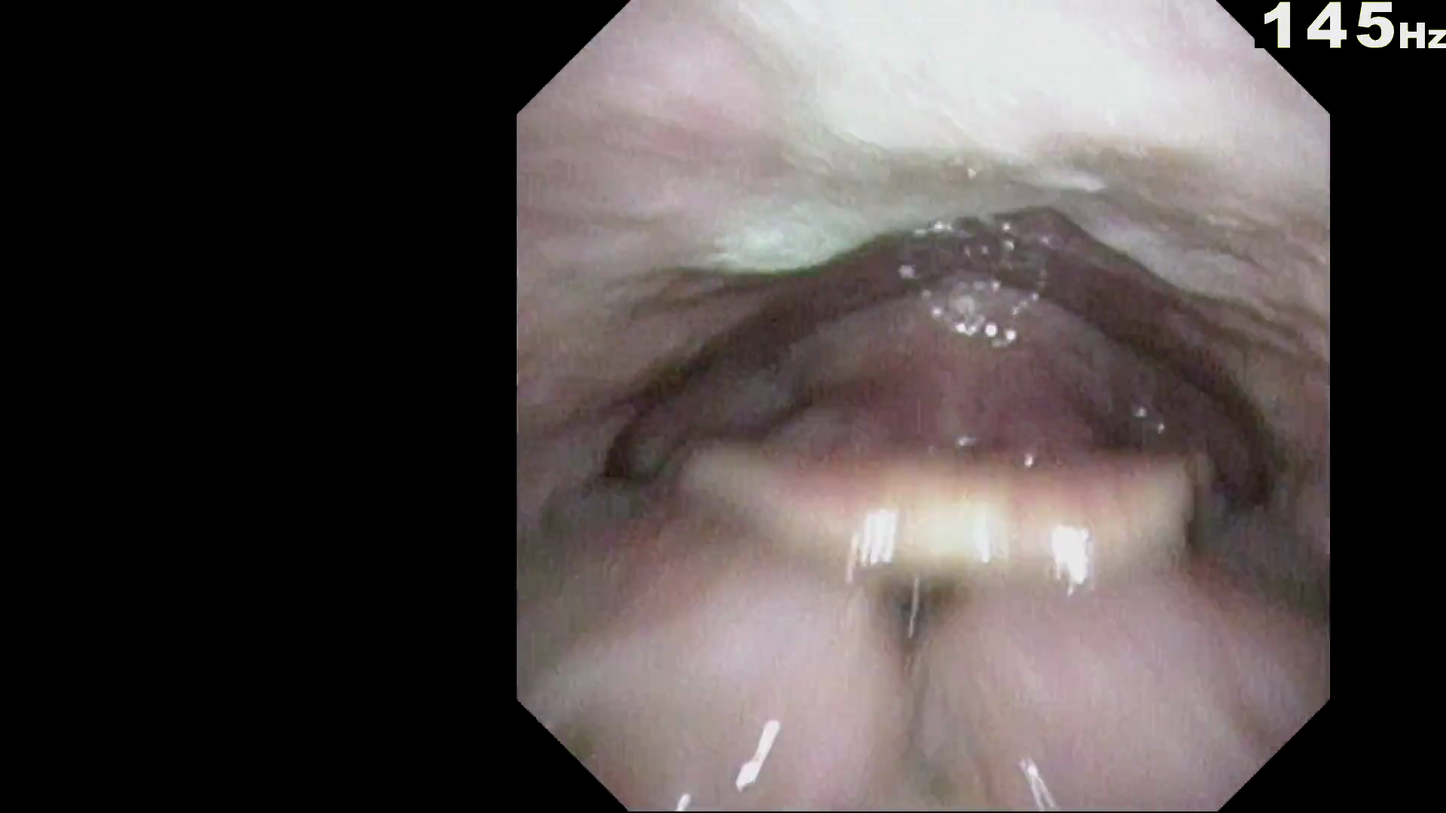epiglottis: (685, 451, 1235, 613)
trachea: (874, 468, 990, 571)
